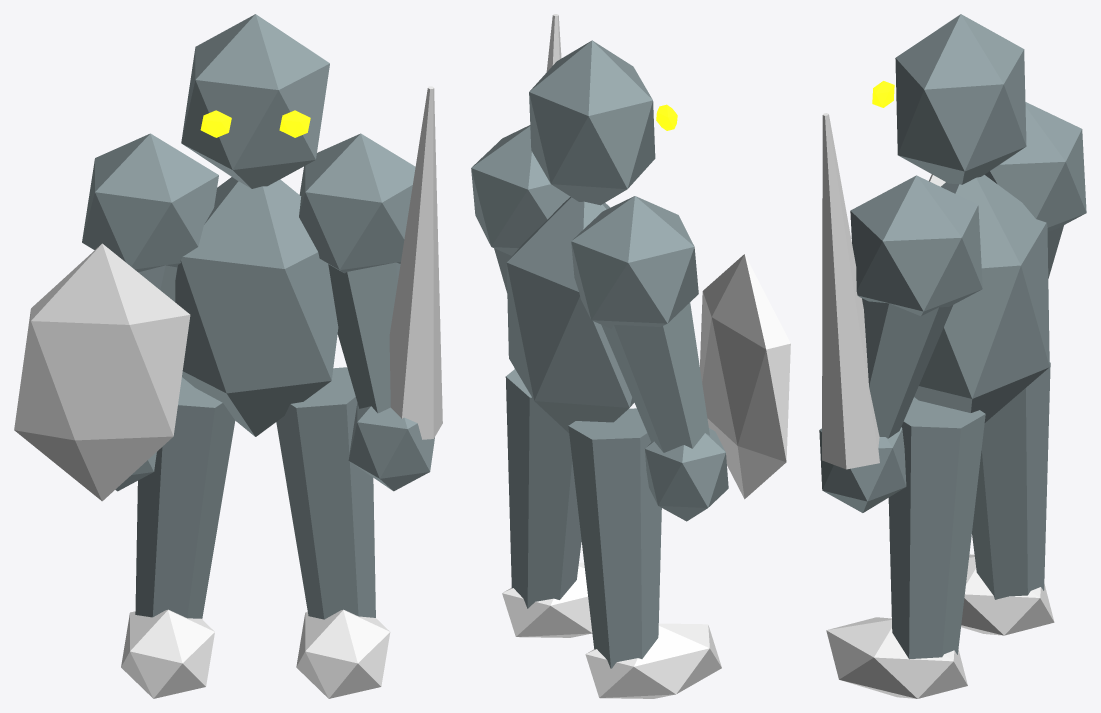
The model's file is knight.glb.
3 renders of one model, left to right at view 1: azimuth 30°, elevation 25°; view 2: azimuth 150°, elevation 25°; view 3: azimuth 270°, elevation 25°, orthographic. The views are drawn at different scales.
Visible parts, largest first — view 1: Shield, Torso.007, Head.019, Leg.039, Leg.038, Shoulder.014, Shoulder.015, Blade.002, Arm.017, Boot.014, Boot.015, Hand.015 (+1 smaller); view 2: Leg.038, Torso.007, Shield, Head.019, Leg.039, Shoulder.014, Arm.016, Shoulder.015, Boot.014, Hand.014, Boot.015, Blade.002; view 3: Torso.007, Leg.039, Head.019, Shoulder.015, Leg.038, Blade.002, Shoulder.014, Arm.017, Boot.015, Hand.015, Boot.014, Eye.039 (+1 smaller).
Part boxes in pixels (x1,y1,x2,y2): Shield: (14, 243, 190, 501); Torso.007: (175, 177, 338, 436); Head.019: (181, 14, 329, 188); Leg.039: (276, 367, 375, 619); Leg.038: (135, 377, 235, 618); Shoulder.014: (82, 133, 218, 272); Shoulder.015: (299, 133, 415, 273); Blade.002: (389, 86, 442, 439); Arm.017: (328, 262, 400, 413); Boot.014: (121, 609, 214, 698); Boot.015: (296, 609, 390, 698); Hand.015: (348, 403, 434, 491); Leg.038: (568, 408, 661, 668); Torso.007: (506, 197, 634, 433); Shield: (700, 254, 790, 499); Head.019: (529, 40, 655, 205); Leg.039: (505, 369, 581, 608); Shoulder.014: (571, 196, 698, 328); Arm.016: (601, 302, 709, 452); Shoulder.015: (471, 125, 570, 255); Boot.014: (585, 623, 721, 698); Hand.014: (645, 428, 728, 521); Boot.015: (502, 562, 592, 637); Blade.002: (546, 14, 561, 71); Torso.007: (914, 175, 1049, 422); Leg.039: (888, 397, 985, 659); Head.019: (895, 14, 1026, 184); Shoulder.015: (850, 175, 982, 315); Leg.038: (972, 362, 1050, 599); Blade.002: (822, 113, 879, 469); Shoulder.014: (984, 102, 1086, 231); Arm.017: (862, 298, 952, 438); Boot.015: (826, 617, 967, 698); Hand.015: (819, 427, 906, 512); Boot.014: (961, 554, 1054, 635); Eye.039: (872, 81, 894, 107).
Size of the model in its own units: 1.92 by 3.35 by 1.24.
